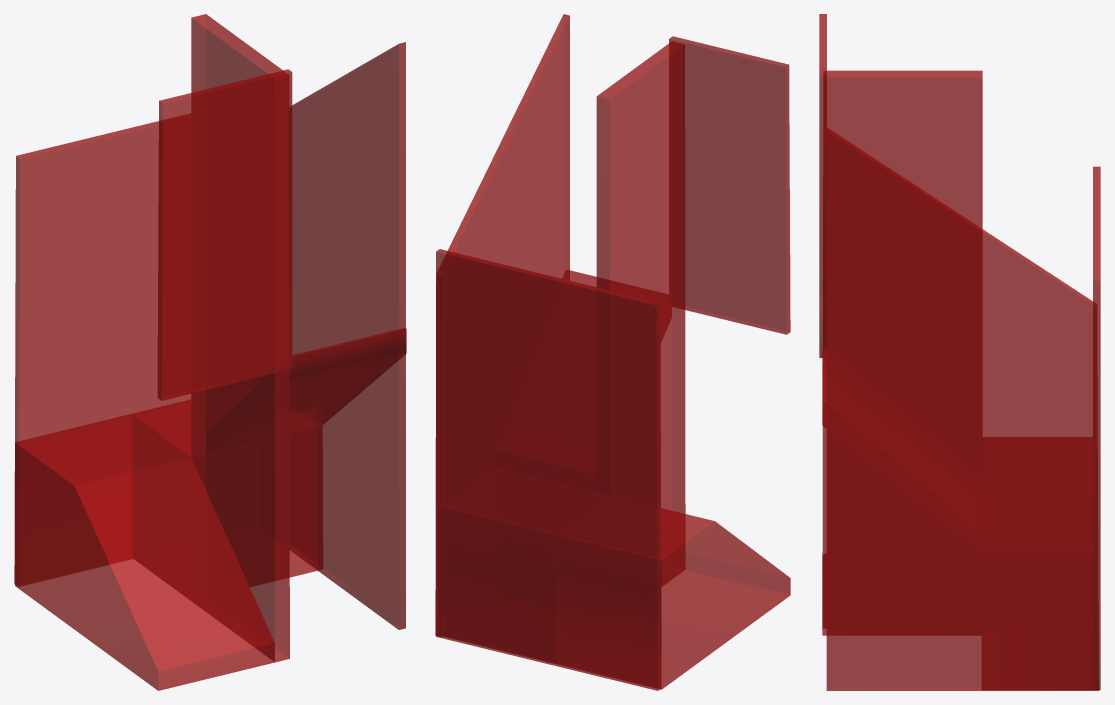
File: SM_Bld_House_Interior_Stairs_02_COLLISION.fbx
The picture shows the model from 3 angles, left to right: view 1: azimuth 30°, elevation 25°; view 2: azimuth 150°, elevation 25°; view 3: azimuth 270°, elevation 25°; orthographic projection. The views are drawn at different scales.
Parts seen in each view (by area): view 1: SM_Bld_House_Interior_Stairs_02_COLLISION; view 2: SM_Bld_House_Interior_Stairs_02_COLLISION; view 3: SM_Bld_House_Interior_Stairs_02_COLLISION.
Part boxes in pixels (bbox=[...]): SM_Bld_House_Interior_Stairs_02_COLLISION: bbox=[14, 14, 406, 690]; SM_Bld_House_Interior_Stairs_02_COLLISION: bbox=[435, 14, 790, 690]; SM_Bld_House_Interior_Stairs_02_COLLISION: bbox=[819, 14, 1100, 690].
Size of the model in its own units: 252 by 565 by 257.
